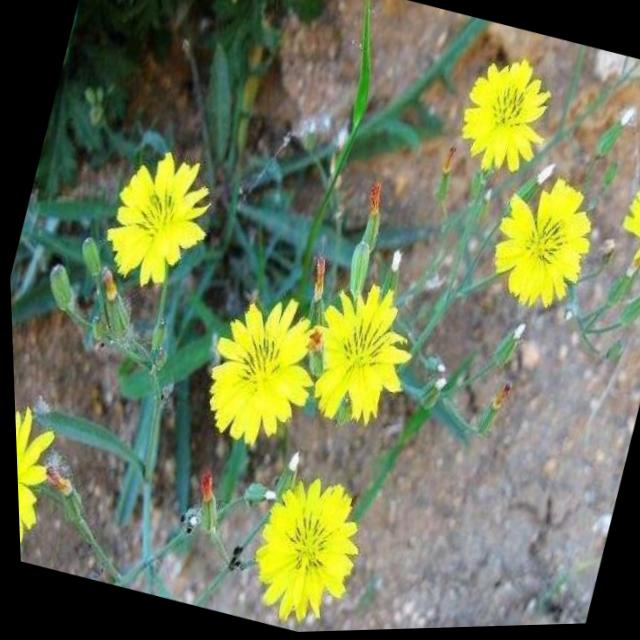Flower: (185, 282, 339, 467), (225, 467, 375, 633), (292, 277, 427, 440), (86, 140, 227, 296), (483, 170, 607, 326), (443, 43, 564, 191), (11, 387, 74, 555), (601, 161, 640, 301)
